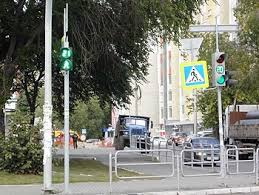tl: (212, 51, 228, 87), (60, 48, 74, 72)
